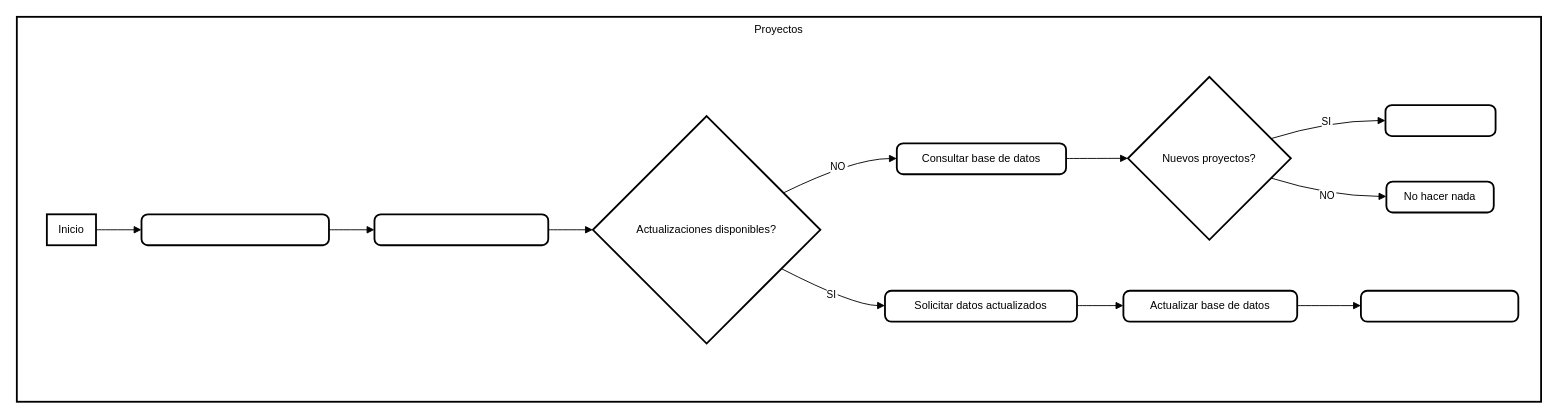
This 1557x418 diagram has some shape labels left out. The shapes that lost their labels are listed below. From the top down, each one's centre as x and y in pixels, then its label:
pixel 1440 120: Crear registros
pixel 234 229: Obtener lista de proyectos
pixel 461 229: Verificar actualizaciones
pixel 1439 305: Crear registro de cron
